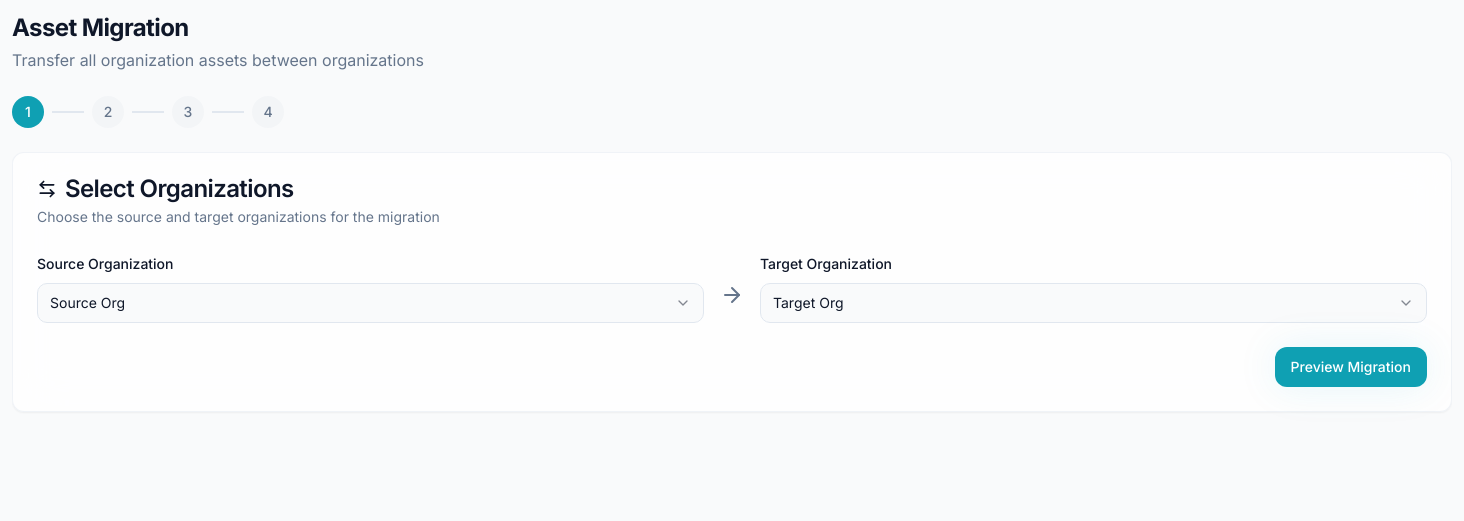
Test case: AssetMigration › loads preview from the server-side RPC and renders truncation info
Expected: the heading "Asset Migration" is shown, x1=12 y1=13 x2=189 y2=42
Click the button "Preview Migration" at coordinates (1351, 367), box x1=1274 y1=347 x2=1427 y2=387
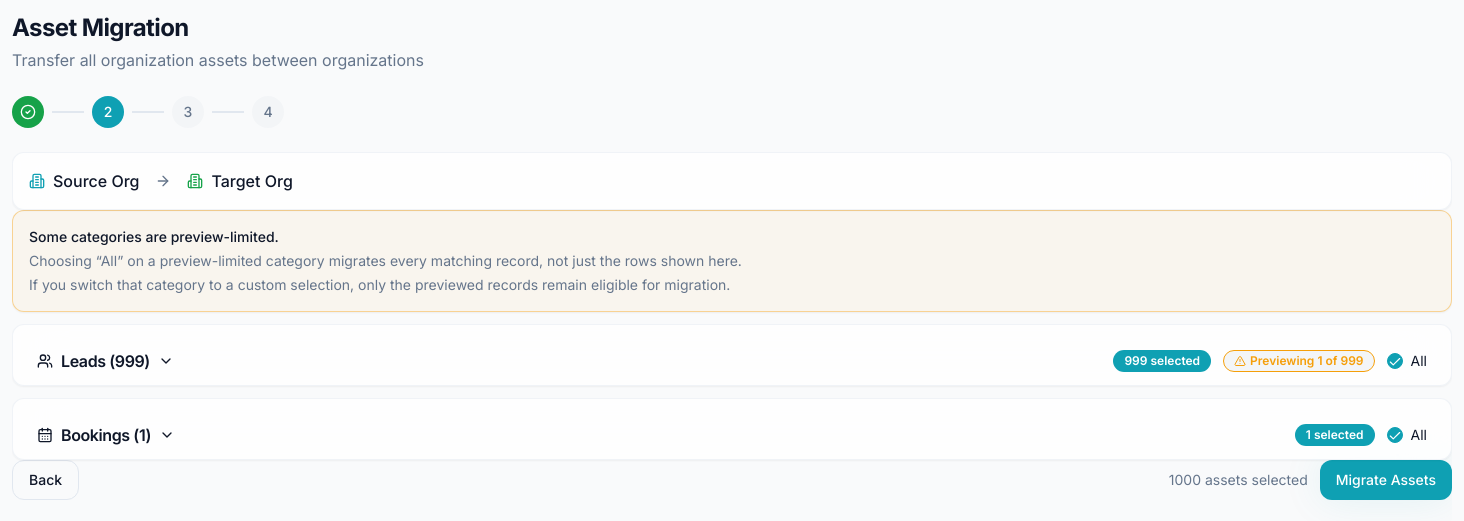
Now the text "Leads (999)" is shown, box x1=61 y1=349 x2=150 y2=373
Now the text "Previewing 1 of 999" is shown, box x1=1223 y1=350 x2=1375 y2=372
Now the text "1000 assets selected" is shown, box x1=1169 y1=470 x2=1308 y2=490
